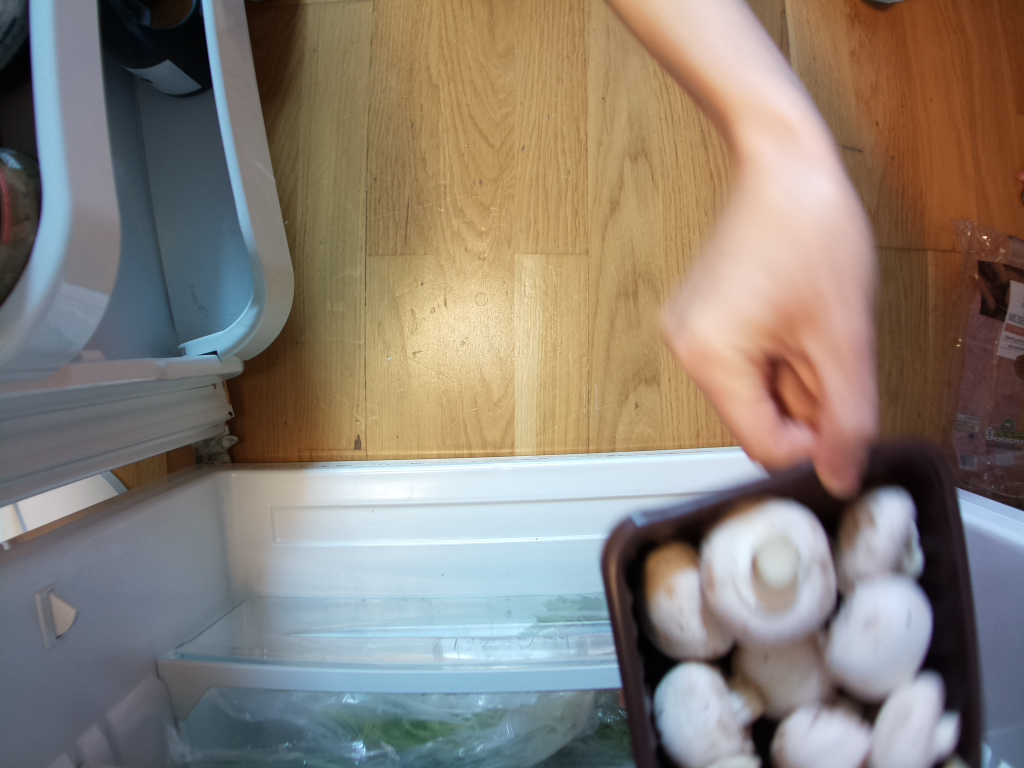mushrooms: (599, 435, 994, 768)
